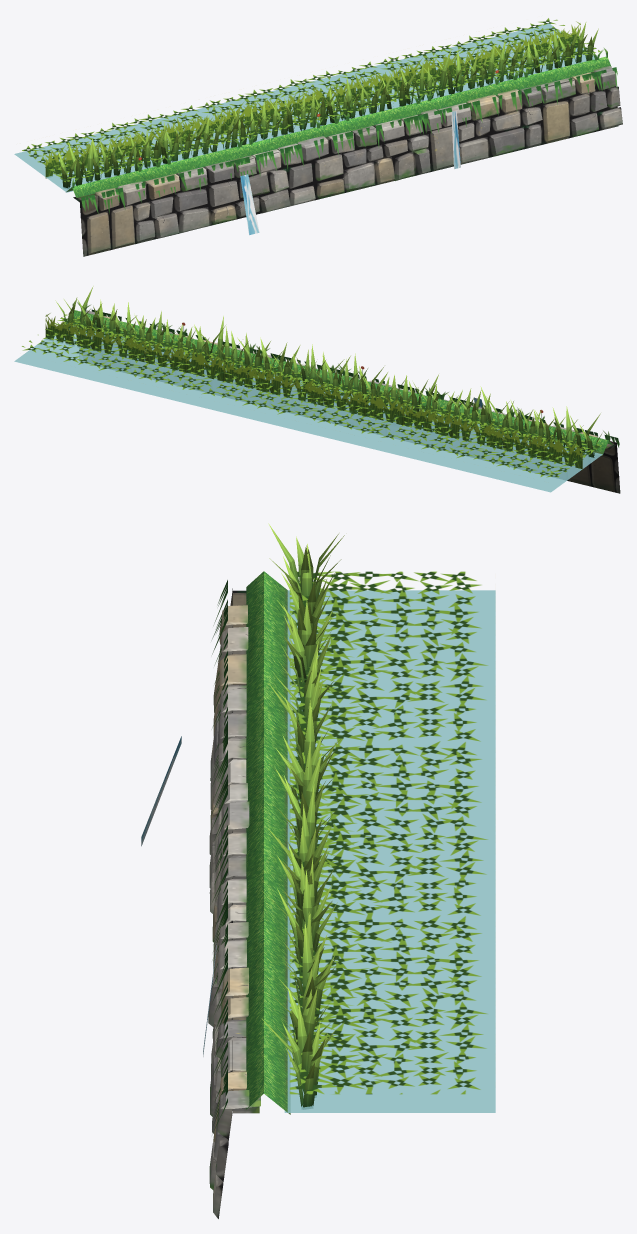
Rendered from terrace_straight_young_mid.glb.
The picture shows the model from 3 angles, top to bottom: view 1: azimuth 30°, elevation 25°; view 2: azimuth 150°, elevation 25°; view 3: azimuth 270°, elevation 25°; orthographic projection. The views are drawn at different scales.
Visible parts, largest first — view 1: terrace_straight_young_mid_wall, terrace_straight_young_mid_cards, terrace_straight_young_mid_lip, terrace_straight_young_mid_water, terrace_straight_young_mid_dike, terrace_straight_young_mid_falls; view 2: terrace_straight_young_mid_cards, terrace_straight_young_mid_water, terrace_straight_young_mid_lip, terrace_straight_young_mid_dike, terrace_straight_young_mid_wall; view 3: terrace_straight_young_mid_water, terrace_straight_young_mid_cards, terrace_straight_young_mid_dike, terrace_straight_young_mid_wall, terrace_straight_young_mid_lip.
Part boxes in pixels (x1=…): terrace_straight_young_mid_wall: x1=73, y1=66, x2=622, y2=256; terrace_straight_young_mid_cards: x1=22, y1=18, x2=617, y2=213; terrace_straight_young_mid_lip: x1=58, y1=22, x2=598, y2=188; terrace_straight_young_mid_water: x1=14, y1=23, x2=594, y2=192; terrace_straight_young_mid_dike: x1=66, y1=56, x2=611, y2=197; terrace_straight_young_mid_falls: x1=240, y1=110, x2=460, y2=235; terrace_straight_young_mid_cards: x1=22, y1=301, x2=619, y2=477; terrace_straight_young_mid_water: x1=14, y1=326, x2=602, y2=492; terrace_straight_young_mid_lip: x1=55, y1=286, x2=601, y2=457; terrace_straight_young_mid_dike: x1=67, y1=310, x2=612, y2=455; terrace_straight_young_mid_wall: x1=79, y1=310, x2=620, y2=493; terrace_straight_young_mid_water: x1=284, y1=590, x2=495, y2=1112; terrace_straight_young_mid_cards: x1=211, y1=571, x2=487, y2=1132; terrace_straight_young_mid_dike: x1=246, y1=571, x2=290, y2=1114; terrace_straight_young_mid_wall: x1=208, y1=588, x2=260, y2=1218; terrace_straight_young_mid_lip: x1=262, y1=523, x2=344, y2=1107.
Size of the model in its own units: 12.16 by 1.97 by 3.44.
Materials: 6 (5 with a texture image).
